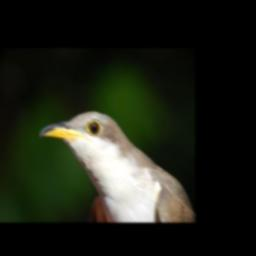Cuckoo: (40, 110, 195, 221)
